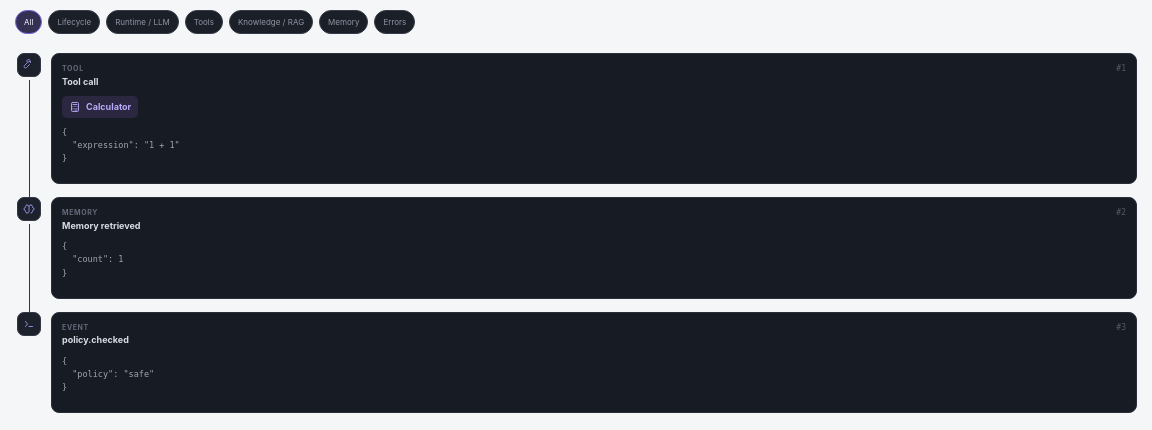
TraceTimeline › filters tools without losing unknown events from All
Click the button "Tools".
click(204, 22)  # box [185,10,223,34]
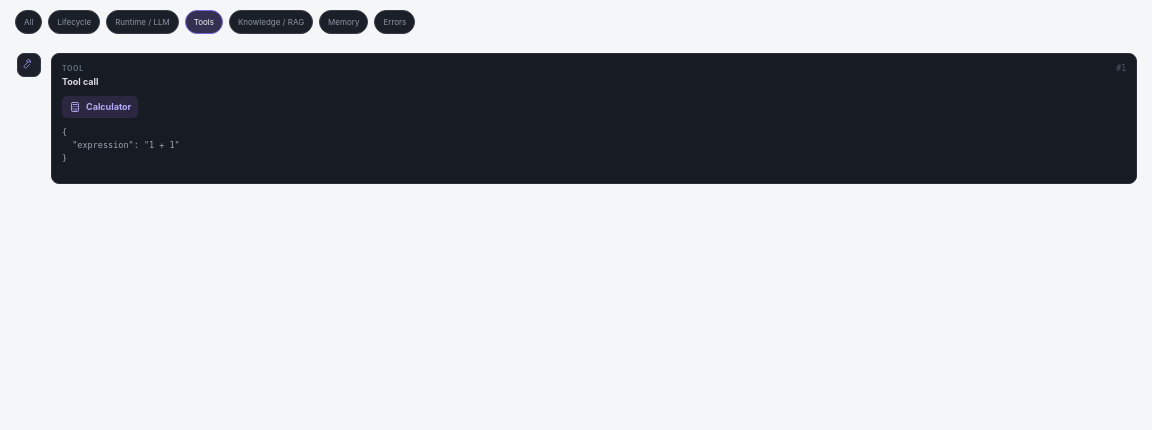
Expected: the text "Calculator" is shown, [62,96,138,118]
Result: the text "Memory retrieved" is gone
Result: the text "policy.checked" is gone
Click the button "All".
click(29, 22)  # box [15,10,42,34]
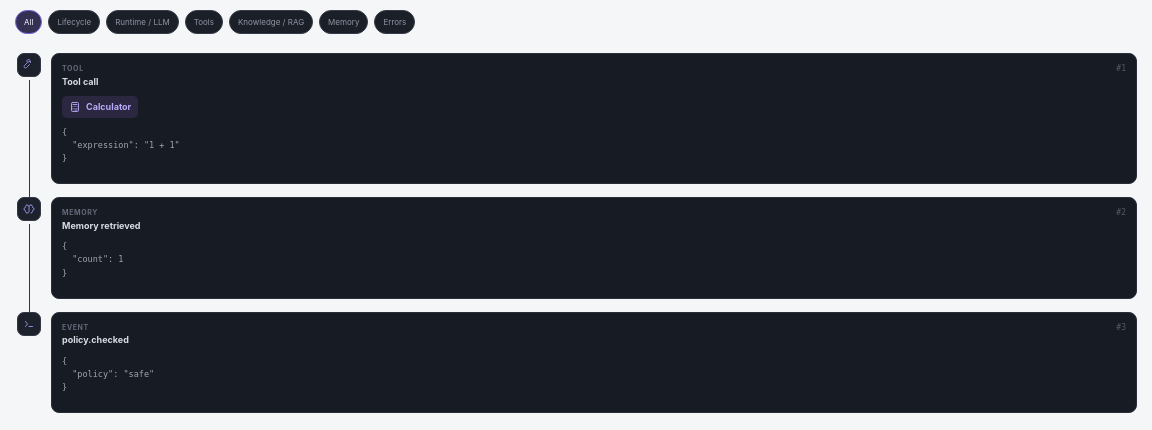
Result: the text "Memory retrieved" is shown at [62,219,141,232]
Result: the text "policy.checked" is shown at [62,333,129,347]
